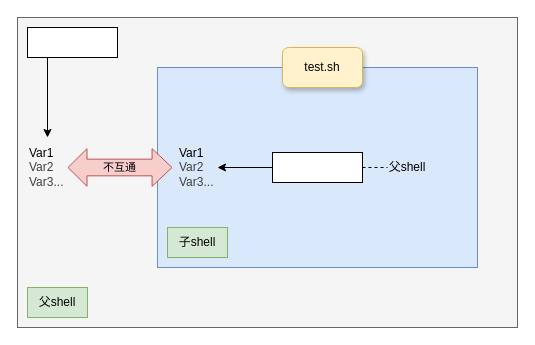
This 535x345 diagram has some shape labels left out. Here are the shapes that lost their labels. From the top down, the centre of each, then its label:
At point (72, 42): "bash test.sh".
At point (317, 167): "source test.sh".
